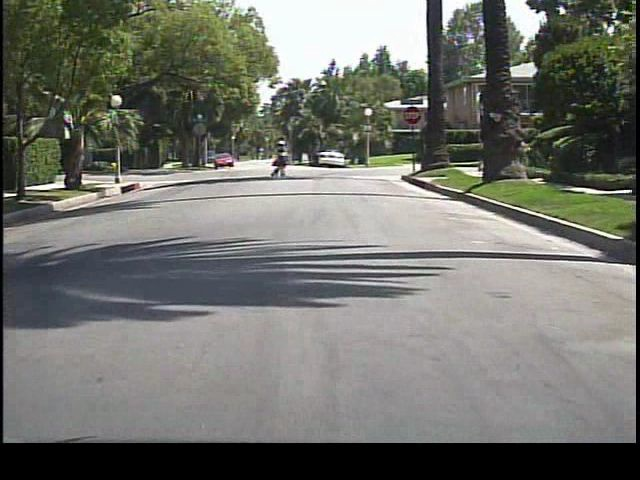person: (272, 135, 290, 176)
